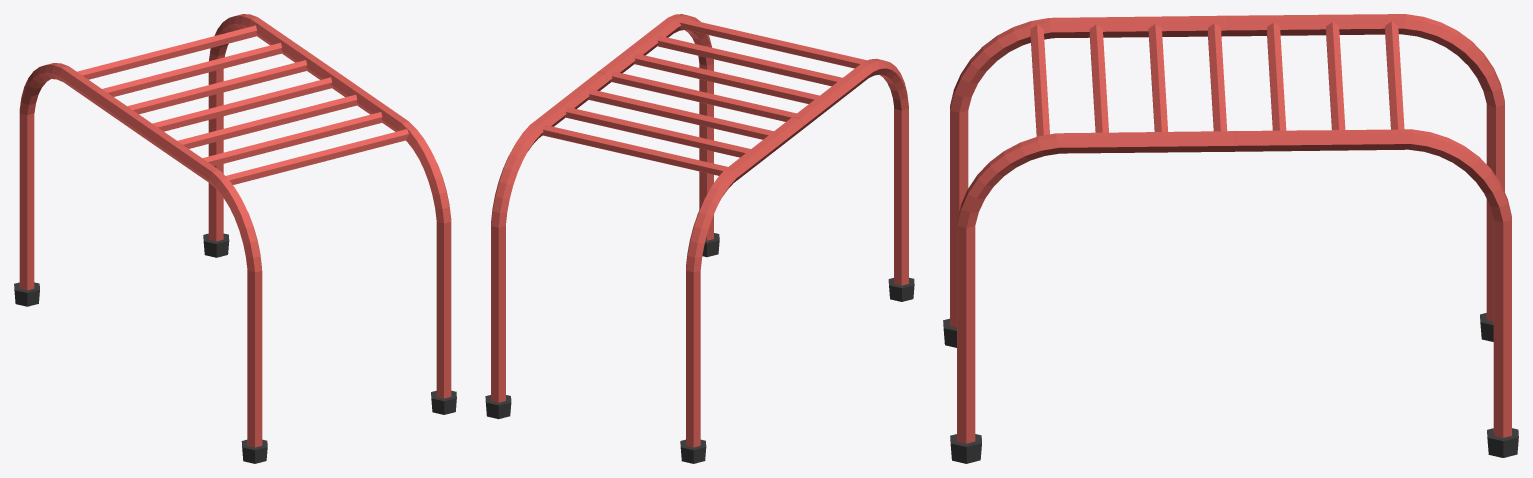
Rendered from low-poly-red-ladder.fbx.
3 renders of one model, left to right at view 1: azimuth 30°, elevation 25°; view 2: azimuth 150°, elevation 25°; view 3: azimuth 270°, elevation 25°, orthographic. The views are drawn at different scales.
Parts seen in each view (by area): view 1: Cylinder.011; view 2: Cylinder.011; view 3: Cylinder.011.
Boxes of the visible parts, bbox=[...] form: Cylinder.011: bbox=[14, 14, 456, 463]; Cylinder.011: bbox=[485, 14, 914, 463]; Cylinder.011: bbox=[943, 14, 1518, 463].
Size of the model in its own units: 76.91 by 84.26 by 137.
